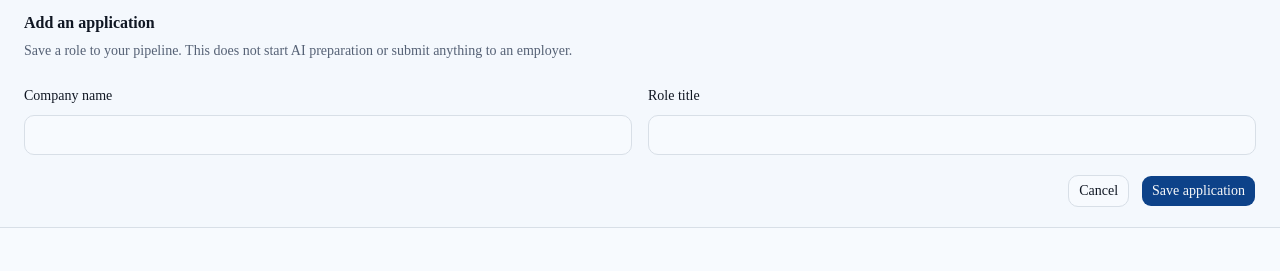
CreateApplicationForm › shows field errors before sending invalid input
Click the button "Save application": (1199,191) [1141,175,1256,207]
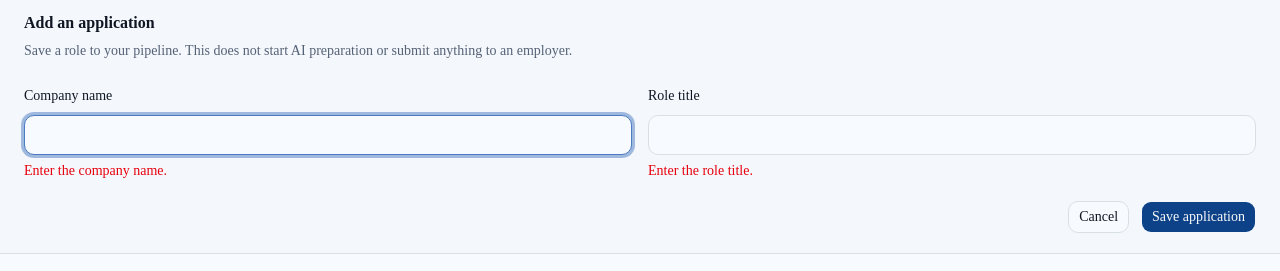
Now the text "Enter the company name." is shown, box [24,163,167,178]
Now the text "Enter the role title." is shown, box [648,163,753,178]
